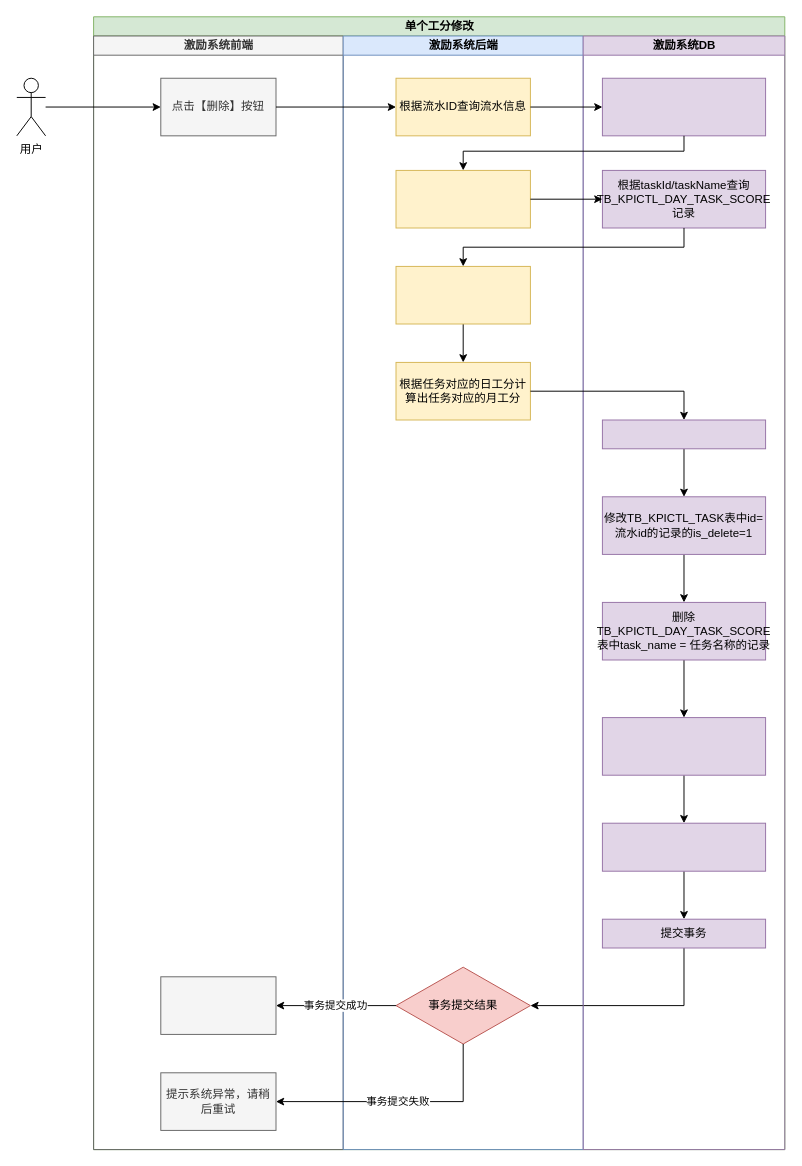
Image size: 802x1166. Some labels were removed from this diagram. Here are the shapes that lost their labels. From the top down, the centre of each, then its label:
At (683,106): "根据id查询TB_KPICTL_TASK记录".
At (462,198): "根据流水信息中的任务名查询任务日工分明细".
At (462,294): "根据任务日工分明细计算出任务对应的日工分".
At (683,434): "开始事务".
At (683,746): "根据日期修改TB_KPICTL_DAY_SCORE记录".
At (683,846): "根据月份修改TB_KPICTL_MONTH_SCORE记录".
At (218,1005): "提示工分录入成功".
